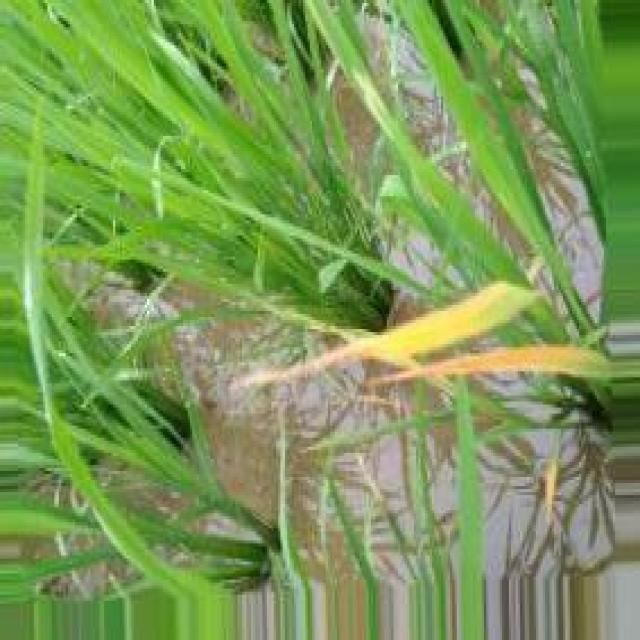Rice Tungro: (253, 282, 540, 383), (367, 344, 607, 385)
